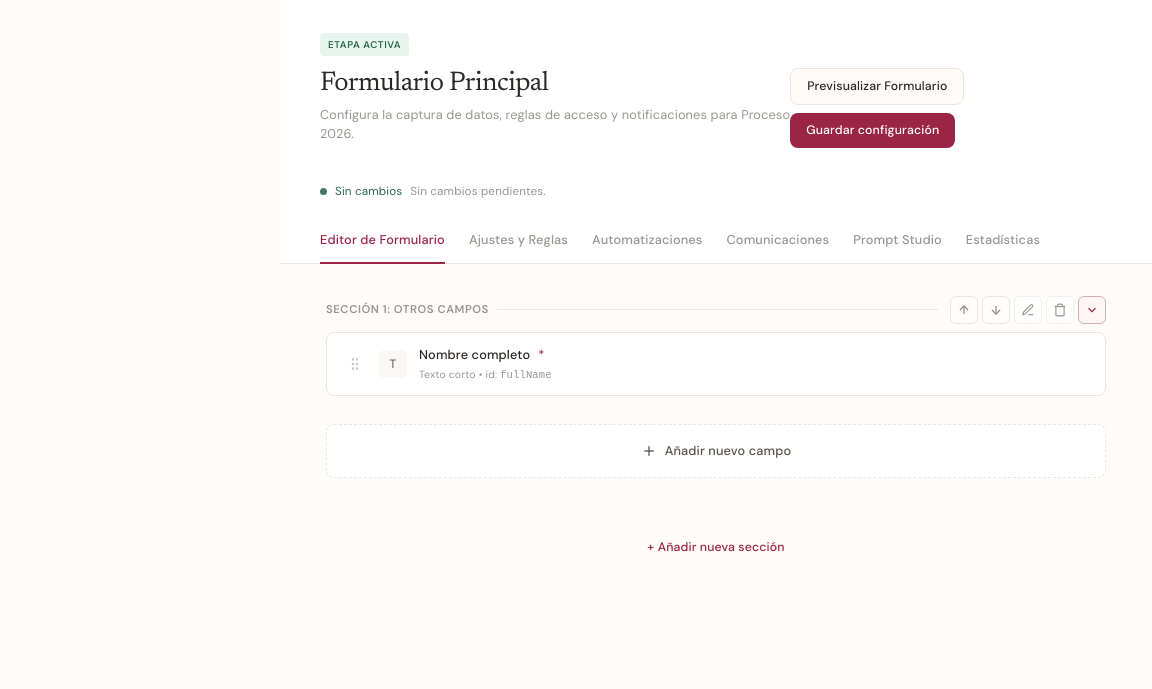
it: StageConfigEditor › includes settings changes in the global save payload and save scope messaging
The width and height of the screenshot is (1152, 689).
Click the button "Ajustes y Reglas".
click(518, 241)  # box left=469, top=218, right=568, bottom=264
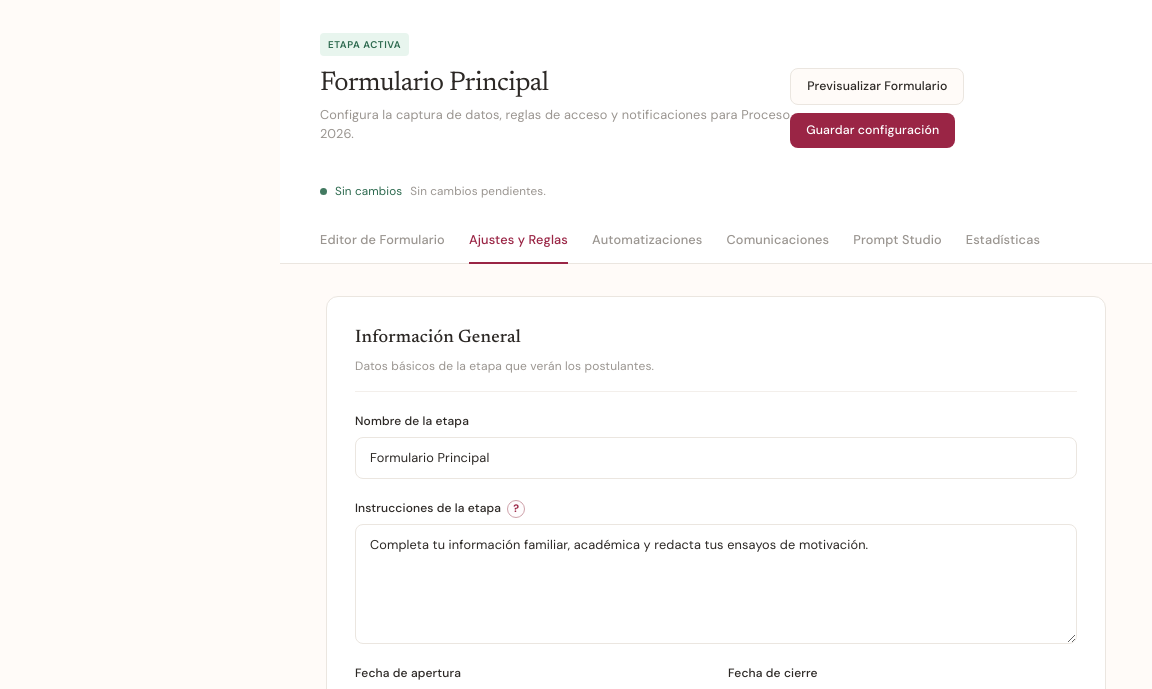
Replace the text in the field labelled "Nombre de la etapa" with "Formulario Principal (editado)" at (716, 458), box left=355, top=437, right=1077, bottom=479
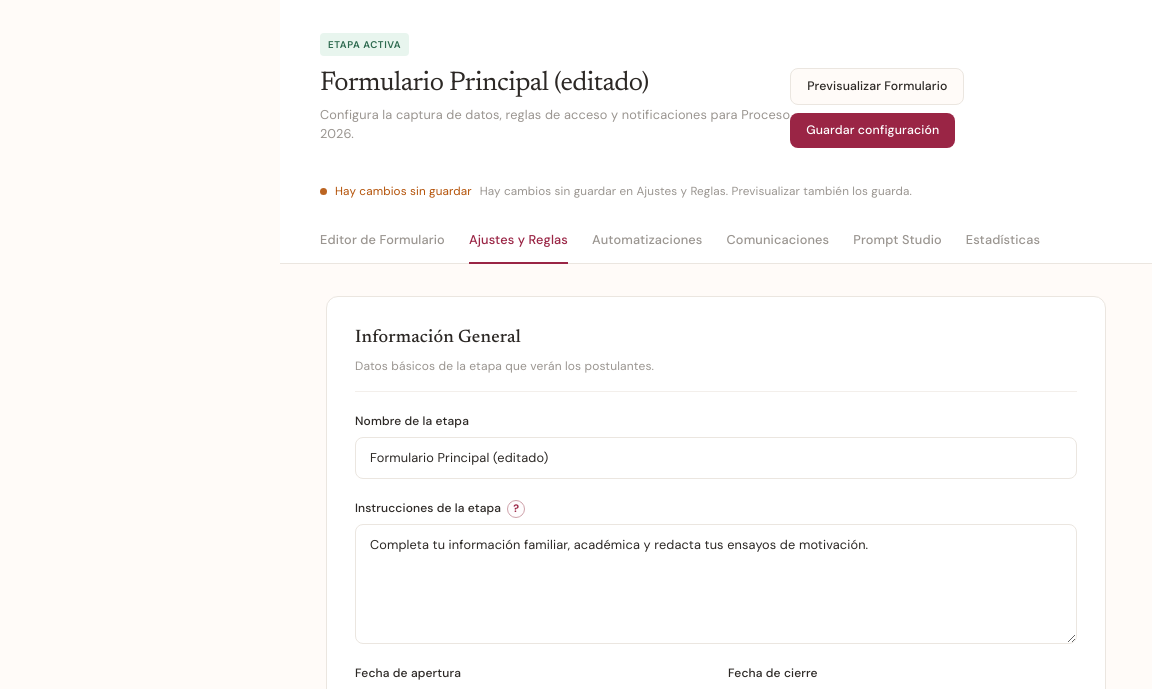
Expected: the text "Hay cambios sin guardar" is shown, left=335, top=183, right=472, bottom=199
Expected: the text "Hay cambios sin guardar" shows "Hay cambios sin guardar en Ajustes y Reglas. Previsualizar también los guarda.", left=480, top=183, right=912, bottom=199
Click the button "Guardar configuración".
click(873, 131)  # box left=790, top=113, right=955, bottom=148
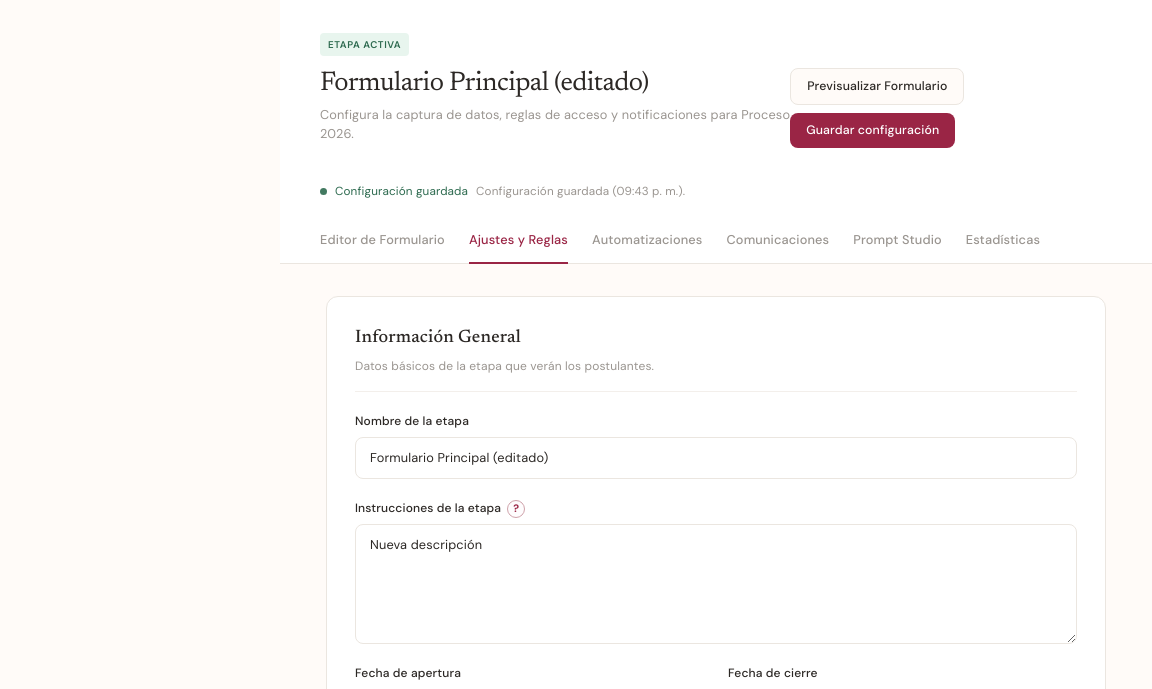
Expected: the text "Configuración guardada" is shown, left=335, top=182, right=468, bottom=200
Expected: the text "Hay cambios sin guardar en Ajustes y Reglas" is gone
